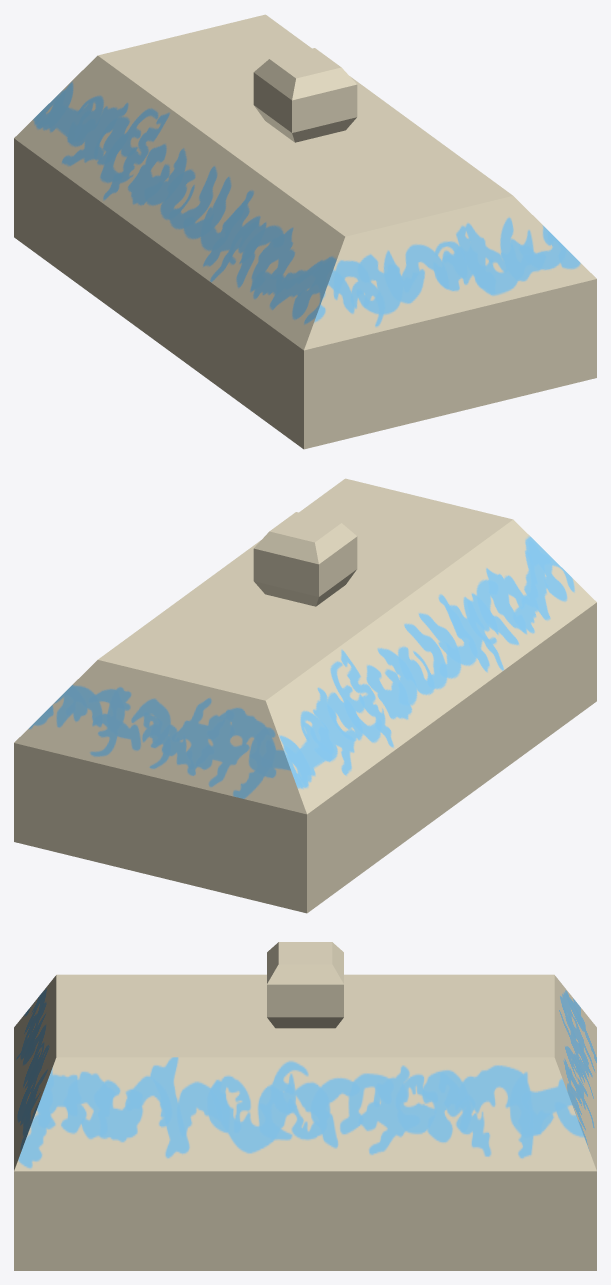
File: ButterTrayTop.fbx
The picture shows the model from 3 angles, top to bottom: view 1: azimuth 30°, elevation 25°; view 2: azimuth 150°, elevation 25°; view 3: azimuth 270°, elevation 25°; orthographic projection.
Parts seen in each view (by area): view 1: ButterTrayLid; view 2: ButterTrayLid; view 3: ButterTrayLid.
Boxes of the visible parts, bbox=[...] form: ButterTrayLid: bbox=[14, 14, 596, 449]; ButterTrayLid: bbox=[14, 478, 596, 913]; ButterTrayLid: bbox=[14, 942, 596, 1270].
Bounding box in the file's own units: 181 × 144 × 309.
